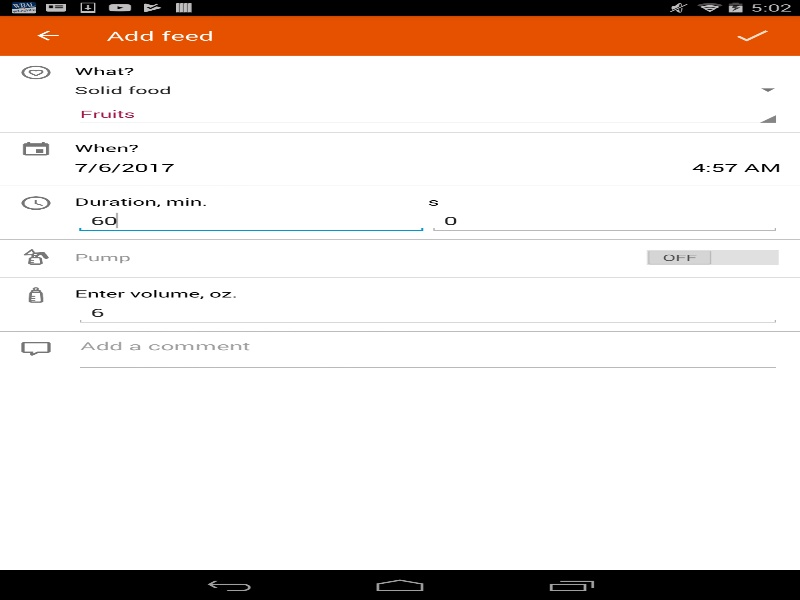Button: (10, 15, 85, 55)
Input: (74, 331, 781, 372), (74, 300, 781, 325), (74, 208, 428, 233), (428, 208, 781, 233)
